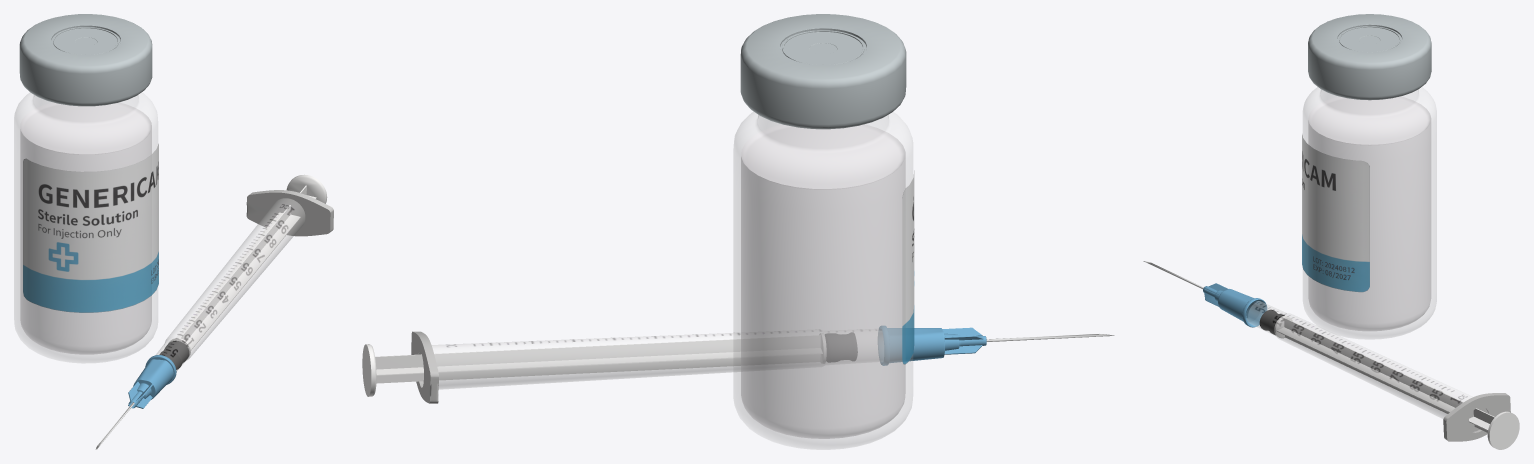
The model's file is vial.glb.
3 renders of one model, left to right at view 1: azimuth 30°, elevation 25°; view 2: azimuth 150°, elevation 25°; view 3: azimuth 270°, elevation 25°, orthographic. The views are drawn at different scales.
Visible parts, largest first — view 1: label, Bottle, liquid, Cap, Cylinder.001, D7014BO2, D7014BOT.001, D7014NE2, D7014BO1; view 2: Bottle, liquid, Cap, Cylinder.001, D7014BO2, D7014NE2, label, D7014BOT.001, D7014BO1; view 3: Bottle, liquid, Cap, label, Cylinder.001, D7014BO2, D7014BOT.001, D7014NE2.
Part boxes in pixels (left/top/right/bottom): label: left=23, top=143, right=158, bottom=312; Bottle: left=14, top=93, right=157, bottom=363; liquid: left=20, top=102, right=151, bottom=354; Cap: left=19, top=14, right=152, bottom=106; Cylinder.001: left=156, top=198, right=304, bottom=370; D7014BO2: left=168, top=174, right=327, bottom=358; D7014BOT.001: left=246, top=190, right=333, bottom=236; D7014NE2: left=128, top=355, right=176, bottom=408; D7014BO1: left=159, top=340, right=189, bottom=369; Bottle: left=733, top=112, right=912, bottom=449; liquid: left=741, top=124, right=905, bottom=438; Cap: left=740, top=14, right=906, bottom=129; Cylinder.001: left=432, top=333, right=860, bottom=389; D7014BO2: left=362, top=333, right=826, bottom=396; D7014NE2: left=878, top=326, right=986, bottom=365; label: left=902, top=170, right=914, bottom=364; D7014BOT.001: left=411, top=331, right=438, bottom=403; D7014BO1: left=825, top=332, right=857, bottom=362; Bottle: left=1303, top=87, right=1436, bottom=339; liquid: left=1308, top=96, right=1430, bottom=330; Cap: left=1308, top=14, right=1431, bottom=100; label: left=1302, top=134, right=1369, bottom=292; Cylinder.001: left=1246, top=301, right=1472, bottom=418; D7014BO2: left=1274, top=315, right=1519, bottom=449; D7014BOT.001: left=1443, top=393, right=1510, bottom=441; D7014NE2: left=1203, top=286, right=1267, bottom=327.
Size of the model in its own units: 0.6745 by 0.4679 by 0.5658.
Materials: 10 (2 with a texture image).
